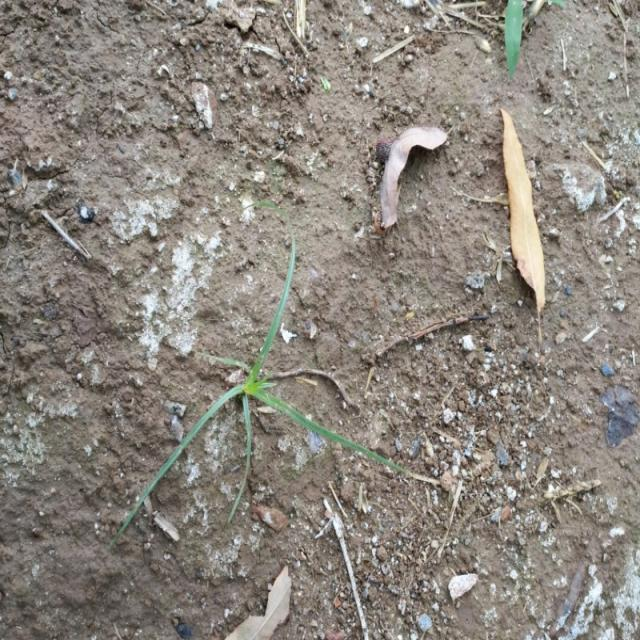sedge: (128, 263, 406, 525)
